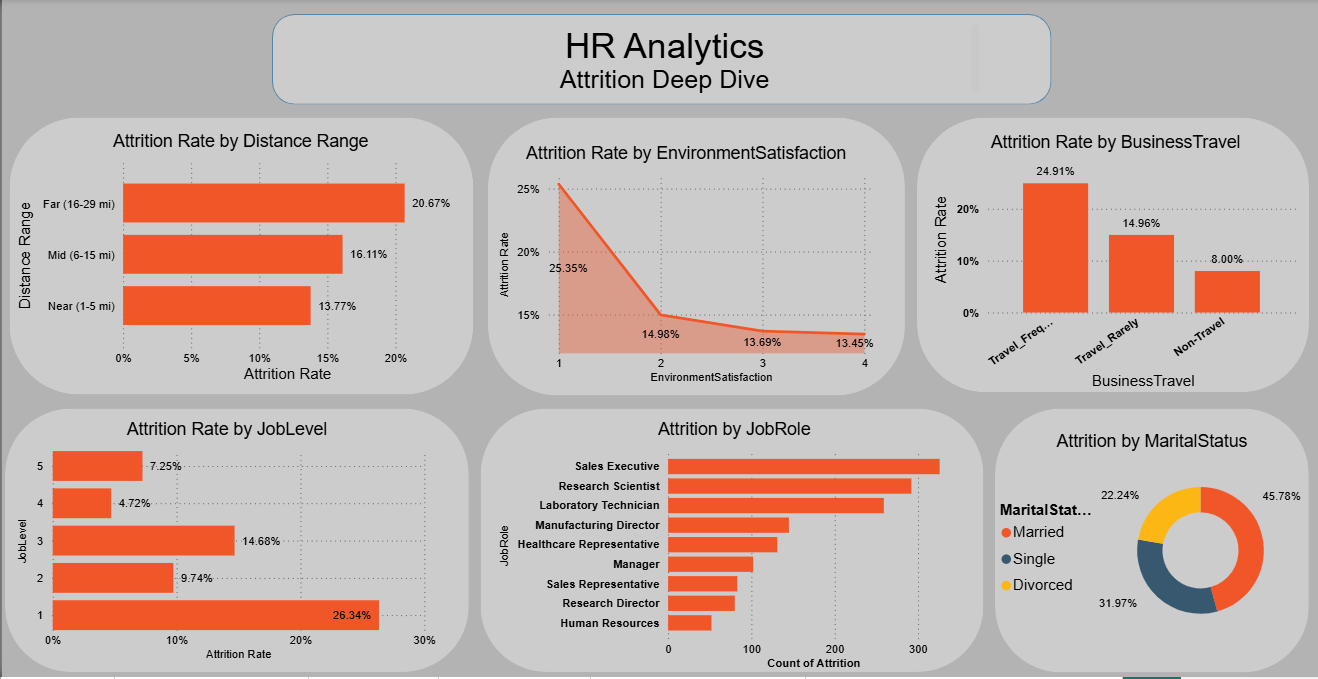

What the dashboard file says about the page in this screenshot:
{"tool":"powerbi","page":{"name":"Attrition","canvas":[1400,720],"ordinal":1},"visuals":[{"type":"shape","box":[286.5,16.6,826.4,96.1],"z":0},{"type":"textbox","box":[372.6,21.5,669.1,82.8],"z":1000},{"type":"shape","box":[507.9,434.4,533.4,279.5],"z":2000},{"type":"clusteredBarChart","title":"Attrition by JobRole","fields":{"Category":["HR_Analytics.JobRole"],"Y":["CountNonNull(HR_Analytics.Attrition)"]},"box":[522.2,445.6,509.4,269.9],"z":3000},{"type":"shape","box":[3.2,434.4,491.9,279.5],"z":4000},{"type":"shape","box":[970.5,125.9,415.7,291.5],"z":5000},{"type":"clusteredBarChart","fields":{"Y":["HR_Analytics.Attrition Rate"],"Category":["HR_Analytics.JobLevel"]},"box":[11.1,445.4,454.9,260.9],"z":6000},{"type":"clusteredColumnChart","fields":{"Category":["HR_Analytics.BusinessTravel"],"Y":["HR_Analytics.Attrition Rate"]},"box":[983.8,140.8,395.8,276.6],"z":7000},{"type":"shape","box":[515.1,125.9,442.2,294.8],"z":8000},{"type":"shape","box":[8,126.2,491.9,293.9],"z":9000},{"type":"clusteredBarChart","fields":{"Y":["HR_Analytics.Attrition Rate"],"Category":["HR_Analytics.Distance Range"]},"box":[11.2,140.5,483.9,271.5],"z":10000},{"type":"stackedAreaChart","fields":{"Y":["HR_Analytics.Attrition Rate"],"Category":["HR_Analytics.EnvironmentSatisfaction"]},"box":[521.7,152.4,407.4,260],"z":11000},{"type":"shape","box":[1053.3,433.9,332.9,279.9],"z":12000},{"type":"donutChart","title":"Attrition by MaritalStatus","fields":{"Category":["HR_Analytics.MaritalStatus"],"Y":["CountNonNull(HR_Analytics.Attrition)"]},"box":[1053.3,458.8,332.9,231.9],"z":13000}]}

Visuals, with their boxes in screenshot pixels (x1, y1, x2, y2), scaled from the page's 1400x720 canvas onto the 1318x679 screenshot:
shape: BBox(270, 16, 1048, 106)
textbox: BBox(351, 20, 981, 98)
shape: BBox(478, 410, 980, 673)
"Attrition by JobRole" clusteredBarChart: BBox(492, 420, 971, 675)
shape: BBox(3, 410, 466, 673)
shape: BBox(914, 119, 1305, 394)
clusteredBarChart - HR_Analytics.Attrition Rate x HR_Analytics.JobLevel: BBox(10, 420, 439, 666)
clusteredColumnChart - HR_Analytics.BusinessTravel x HR_Analytics.Attrition Rate: BBox(926, 133, 1299, 394)
shape: BBox(485, 119, 901, 397)
shape: BBox(8, 119, 471, 396)
clusteredBarChart - HR_Analytics.Attrition Rate x HR_Analytics.Distance Range: BBox(11, 132, 466, 389)
stackedAreaChart - HR_Analytics.Attrition Rate x HR_Analytics.EnvironmentSatisfaction: BBox(491, 144, 875, 389)
shape: BBox(992, 409, 1305, 673)
"Attrition by MaritalStatus" donutChart: BBox(992, 433, 1305, 651)
